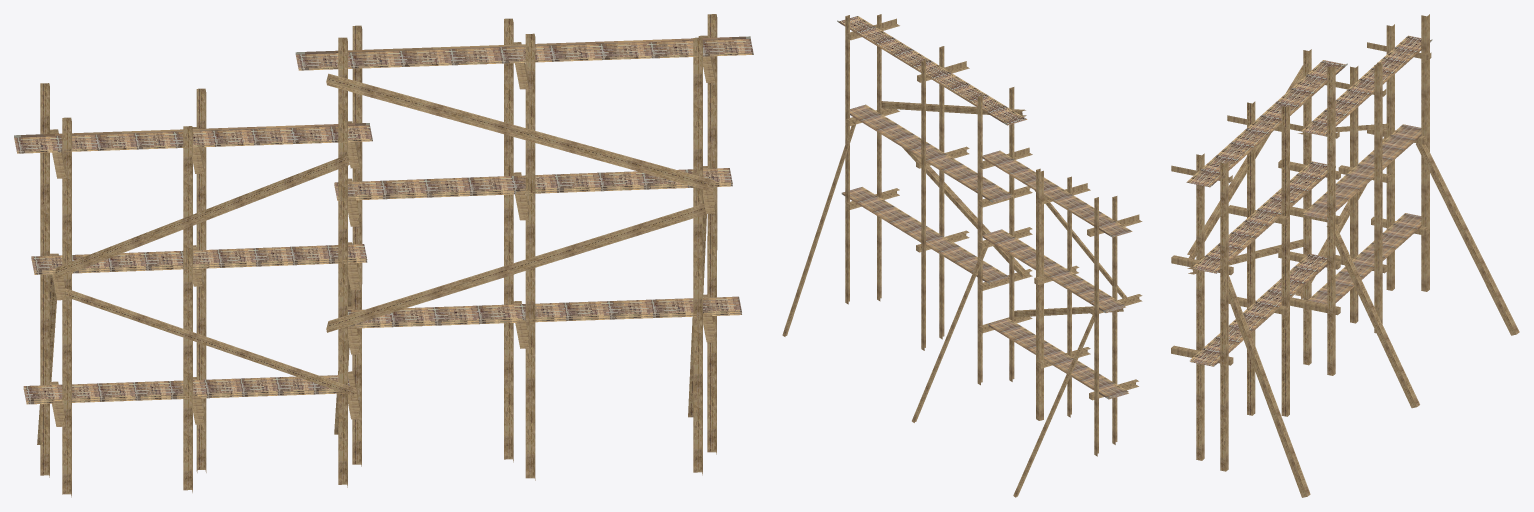
Rendered from stage-maya-p5-3.glb.
The picture shows the model from 3 angles, left to right: view 1: azimuth 30°, elevation 25°; view 2: azimuth 150°, elevation 25°; view 3: azimuth 270°, elevation 25°; orthographic projection. The views are drawn at different scales.
Size of the model in its own units: 43.94 by 33.25 by 31.05.
2 materials, 2 textured.
